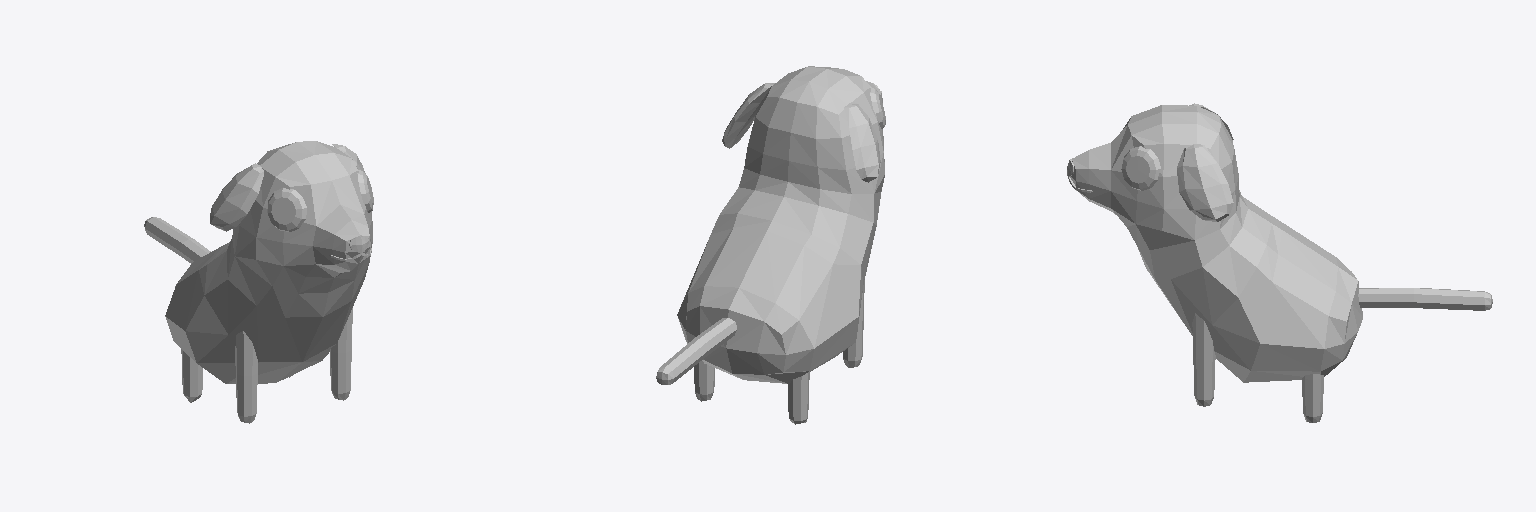
Rendered from dog.obj.
3 renders of one model, left to right at view 1: azimuth 30°, elevation 25°; view 2: azimuth 150°, elevation 25°; view 3: azimuth 270°, elevation 25°, orthographic.
Visible parts, largest first — view 1: dog, eyes.001; view 2: dog; view 3: dog, eyes.001.
Part boxes in pixels (x1,y1,x2,y2): dog: (144, 141, 372, 423); eyes.001: (267, 170, 373, 231); dog: (656, 66, 884, 424); dog: (1069, 103, 1492, 422); eyes.001: (1121, 146, 1160, 190).
Size of the model in its own units: 0.4952 by 0.8462 by 1.13.